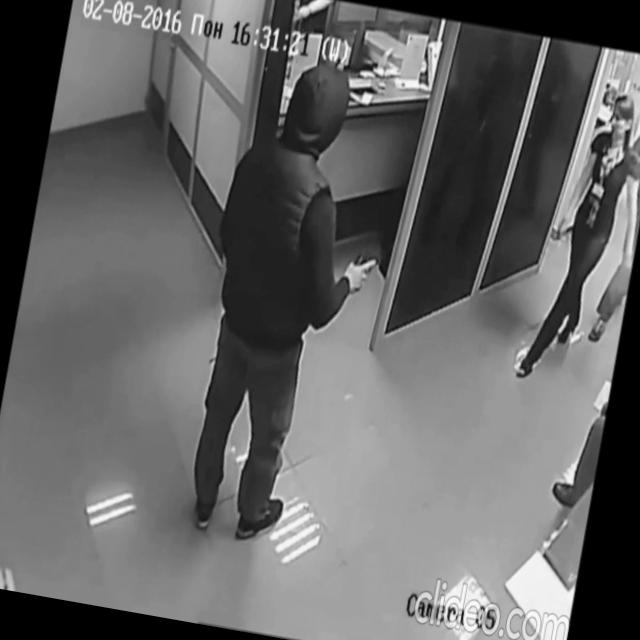gun: (341, 247, 382, 300)
person: (513, 81, 640, 396)
person with a gun: (165, 46, 414, 556)
